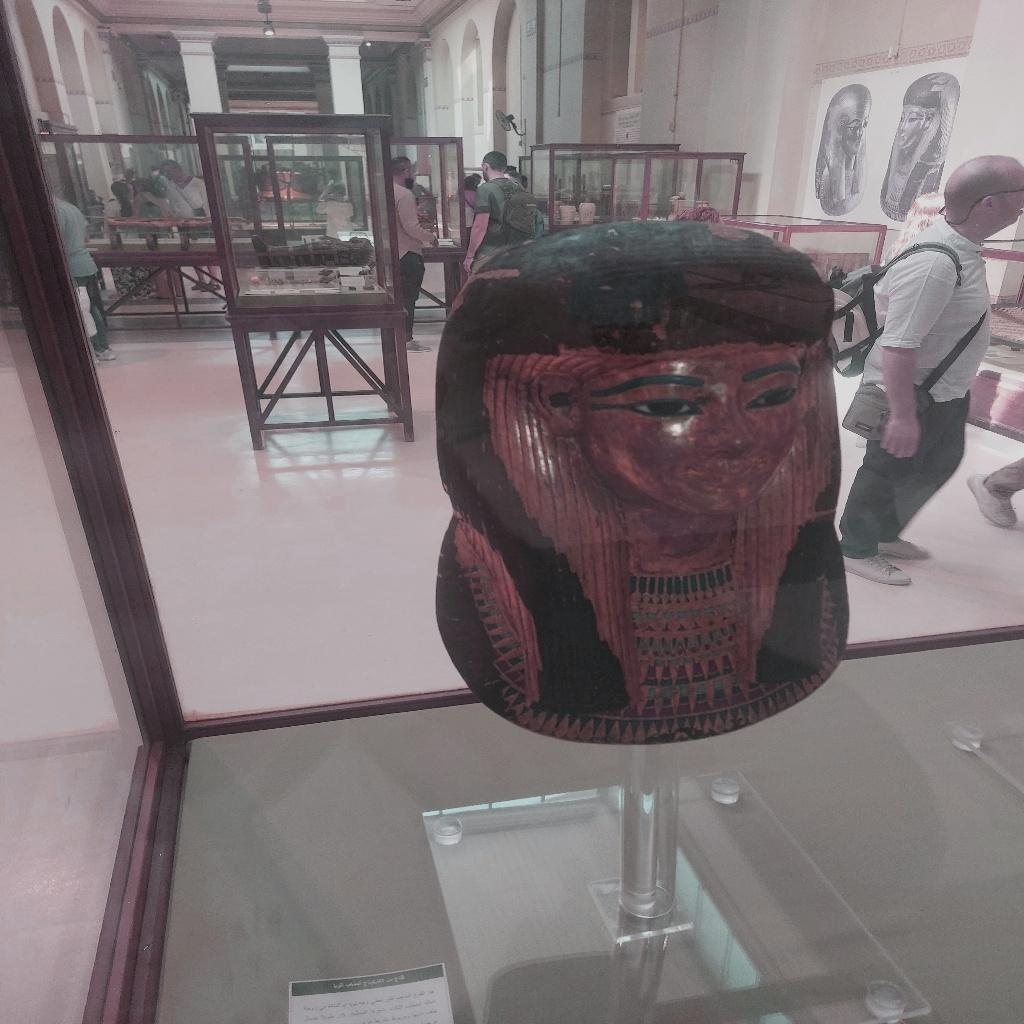Mask of Thuya: (429, 217, 854, 745)
